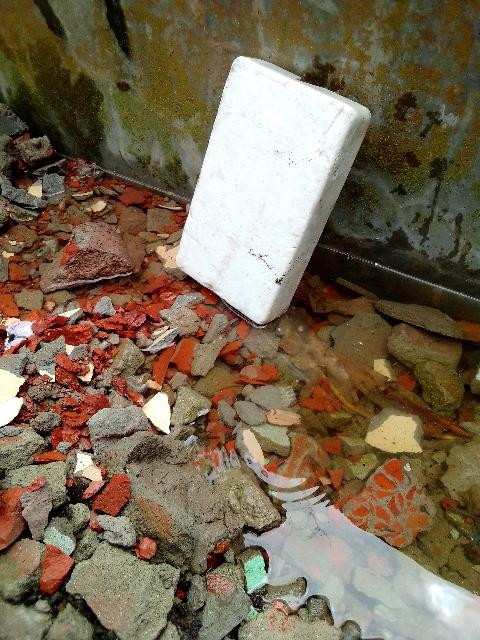cocksheet: (126, 47, 378, 329)
